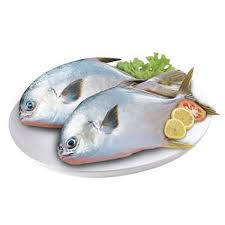Ikan Bawal: (55, 82, 214, 165), (17, 50, 184, 127)
